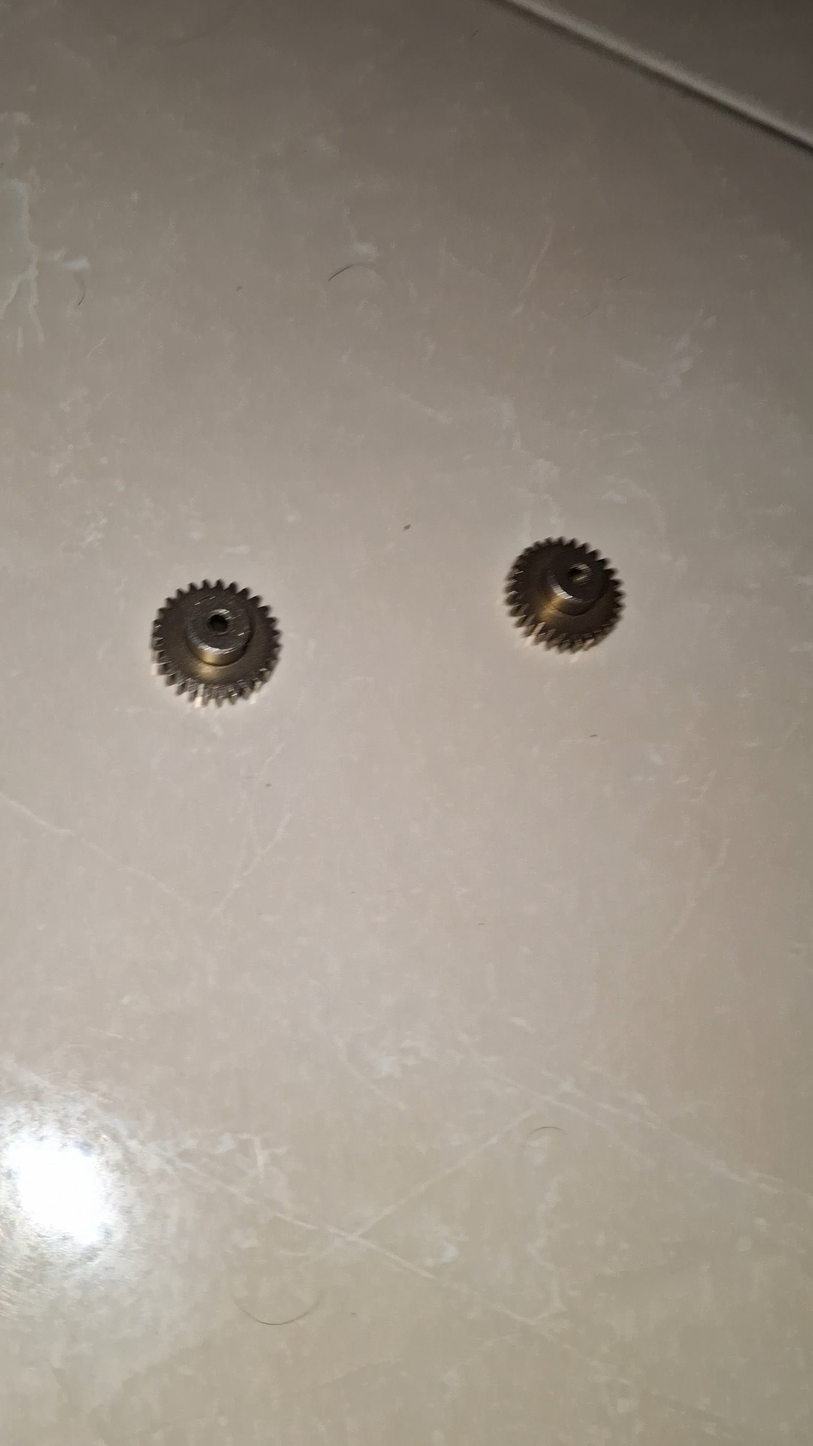spur gear: (152, 581, 280, 704), (505, 538, 623, 651)
